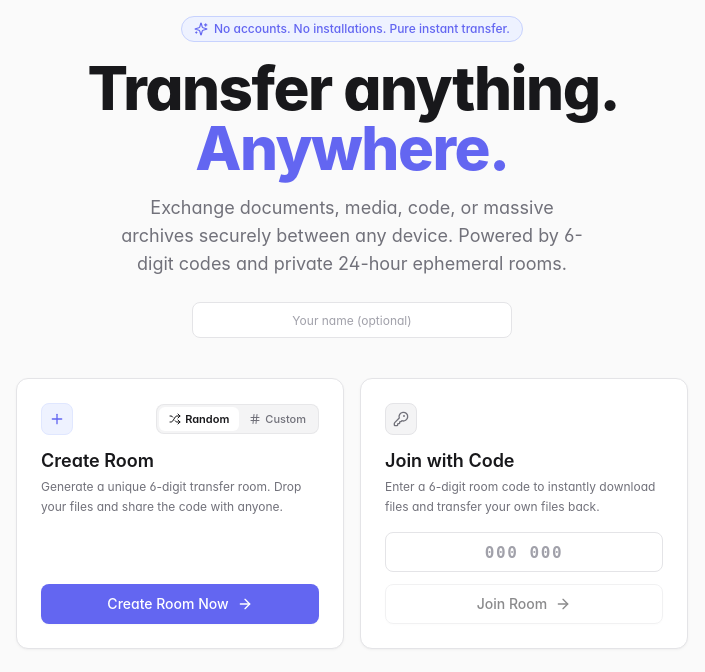
Test: UI Component Library › Hero renders both Random and Custom code generation options and toggles between them
Check: the button "Create Room Now" is shown, box [41,584,319,624]
Check: the field with placeholder "Enter 6-digit code" is not shown
// Toggle to Custom code mode
Click the button "Custom": [278, 419] box [239,407,316,431]
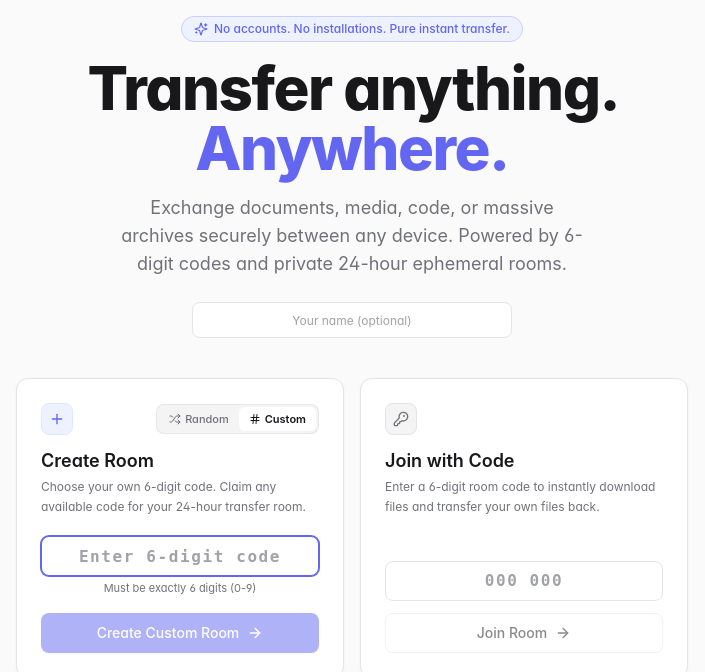
Check: the field with placeholder "Enter 6-digit code" is shown
Check: the button "Create Custom Room" is disabled, box [41,612,319,652]
// Type 6 digits
In the field with placeholder "Enter 6-digit code": [180, 556] box [41,536,319,576], type "654321"
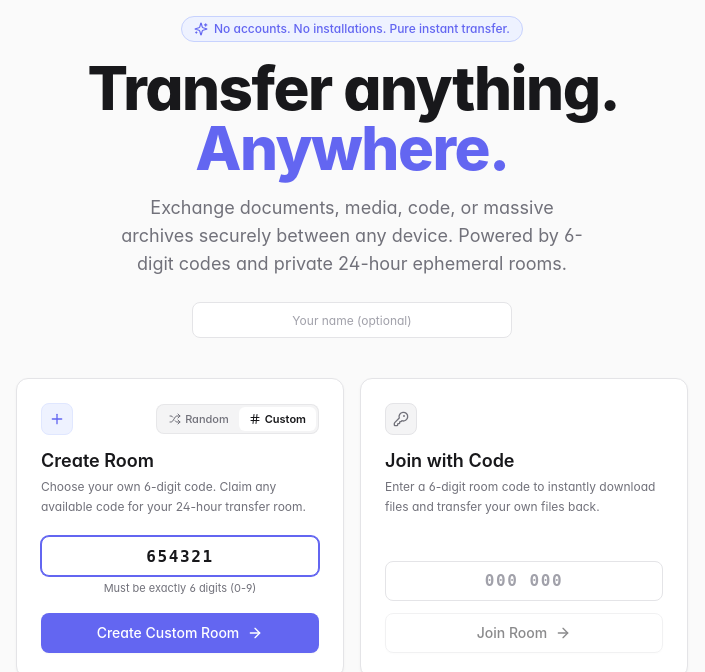
Check: the button "Create Custom Room" is enabled, box [41,612,319,652]
// Toggle back to Random mode
Click the button "Random": [199, 419] box [159,407,239,431]
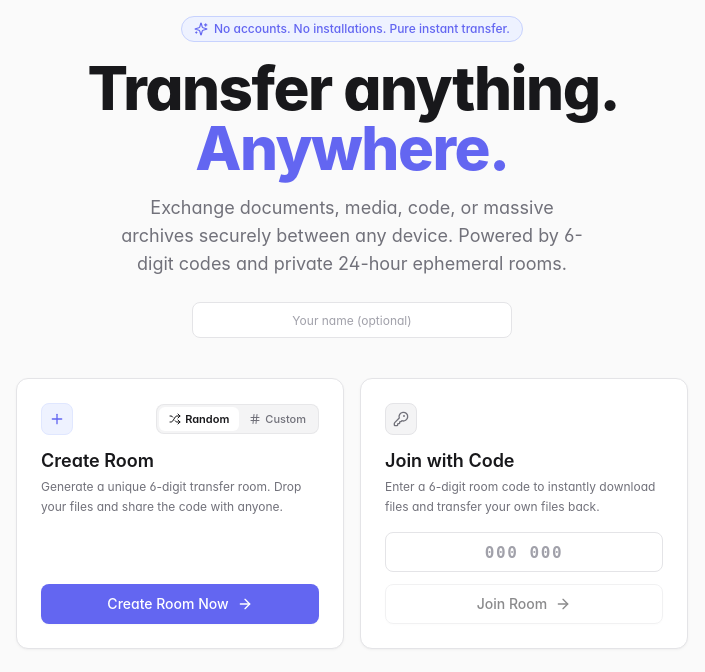
Check: the field with placeholder "Enter 6-digit code" is not shown
Check: the button "Create Room Now" is shown, box [41,584,319,624]
